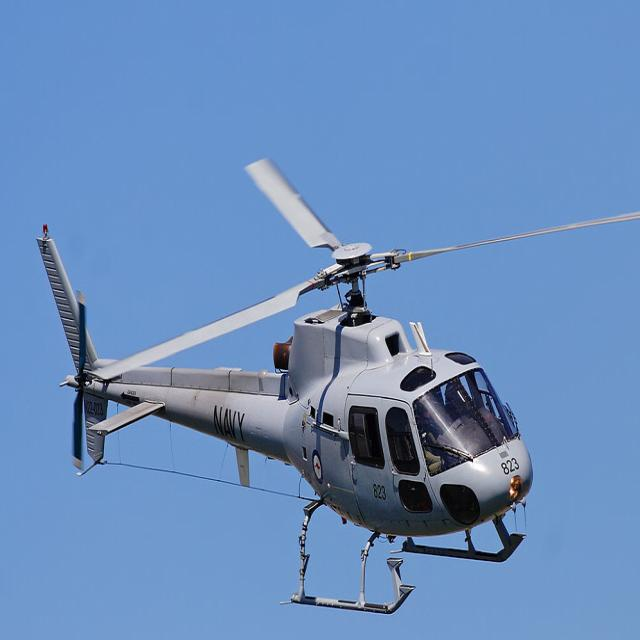helicopter: (31, 159, 640, 616)
